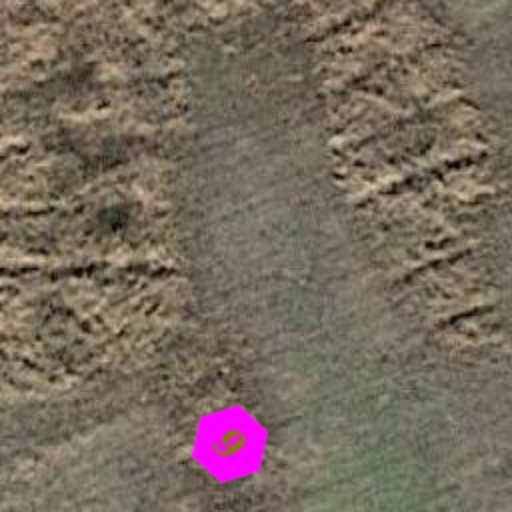hexagon: (172, 386, 288, 502)
